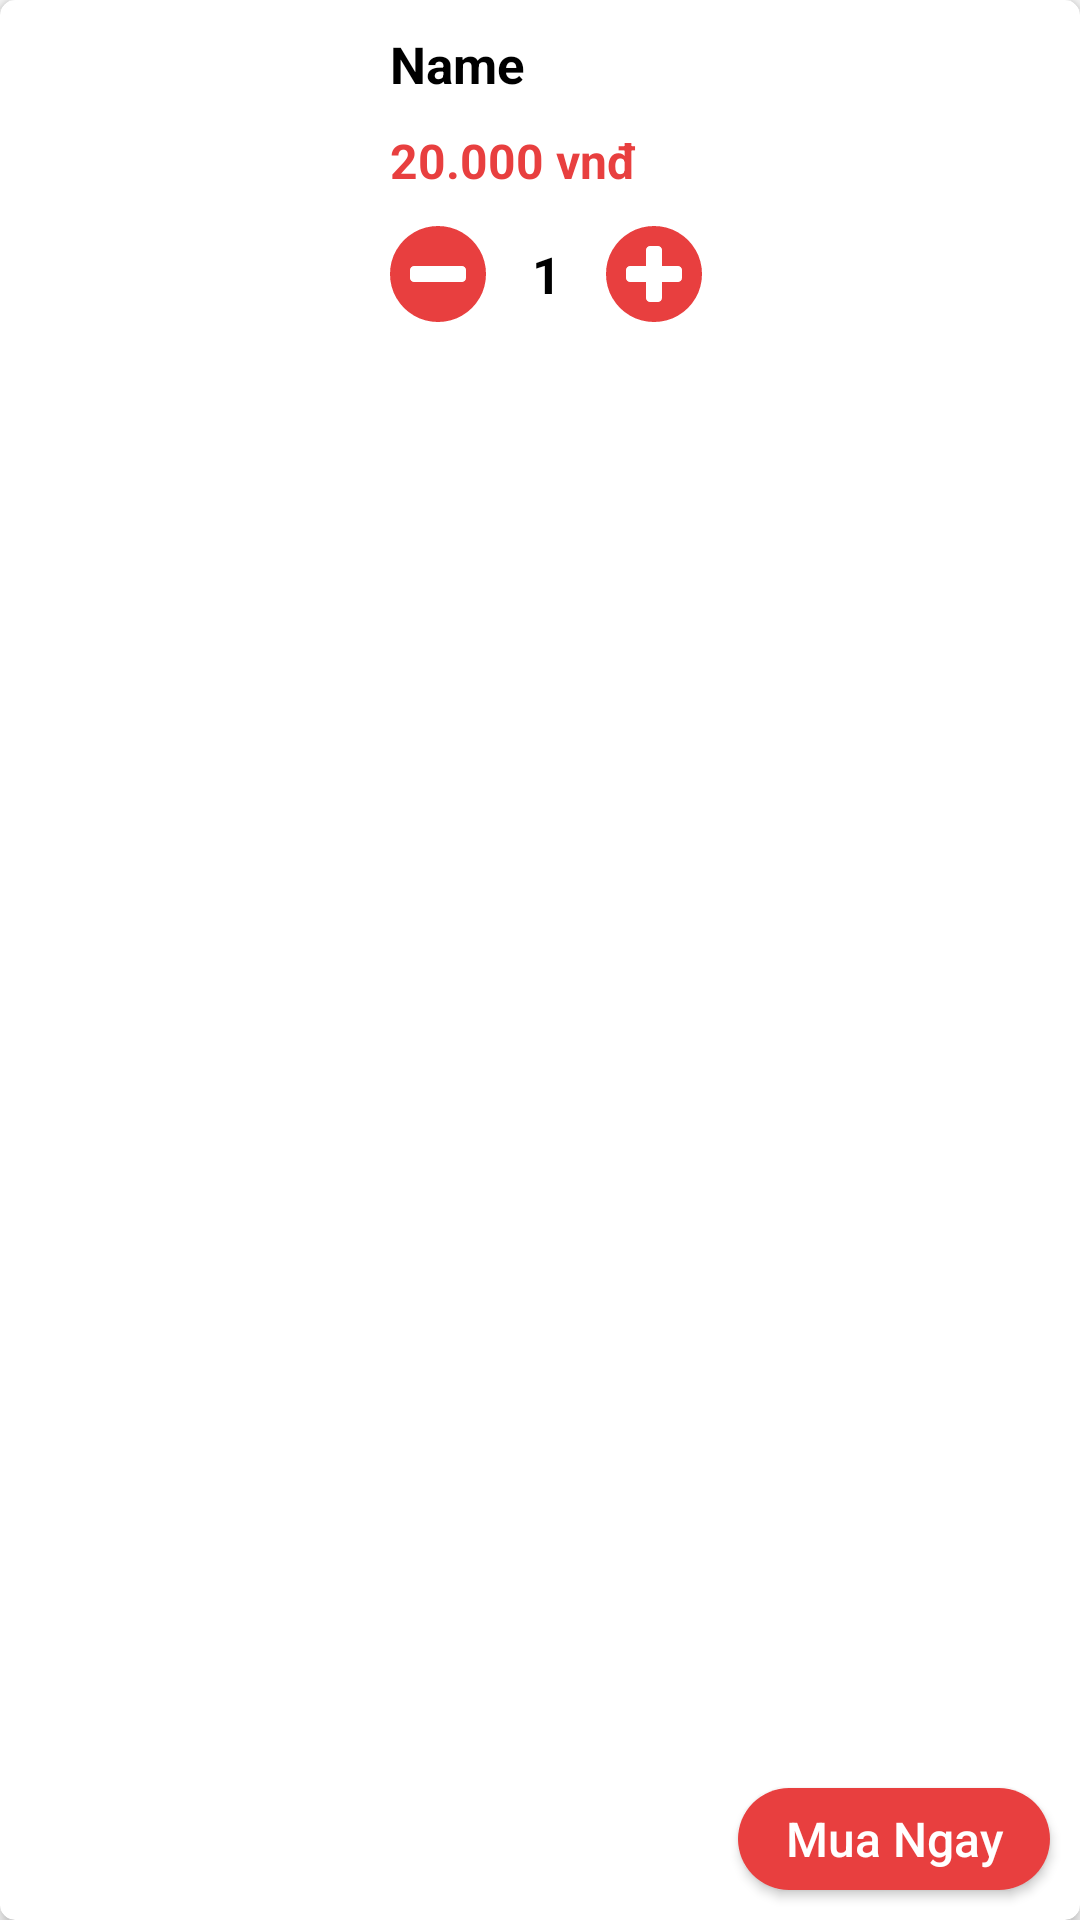

Locate icon controls on the screen. Image size 1080w x 1920h, boxes as (x1, y1, x2, y2).
minus: (390, 226, 486, 322)
plus: (606, 226, 702, 322)
